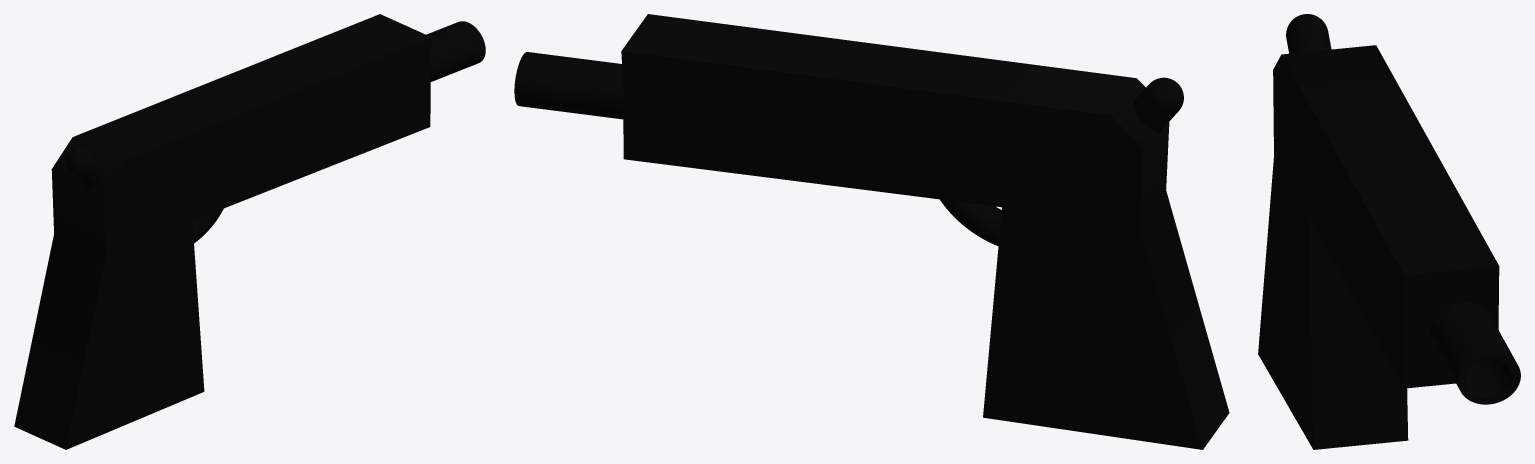
Rendered from pistola.fbx.
3 views of the same model, side by side, from view 1: azimuth 30°, elevation 25°; view 2: azimuth 150°, elevation 25°; view 3: azimuth 270°, elevation 25° (orthographic). The views are drawn at different scales.
Parts seen in each view (by area): view 1: root (×4); view 2: root (×4); view 3: root (×3).
Boxes of the visible parts, x1,y1,x2,y2 form: root (×4): [14, 14, 485, 449]; root (×4): [514, 14, 1229, 449]; root (×3): [1258, 14, 1520, 449].
Size of the model in its own units: 2.98 by 1.56 by 1.03.
Materials: 4 (3 with a texture image).
